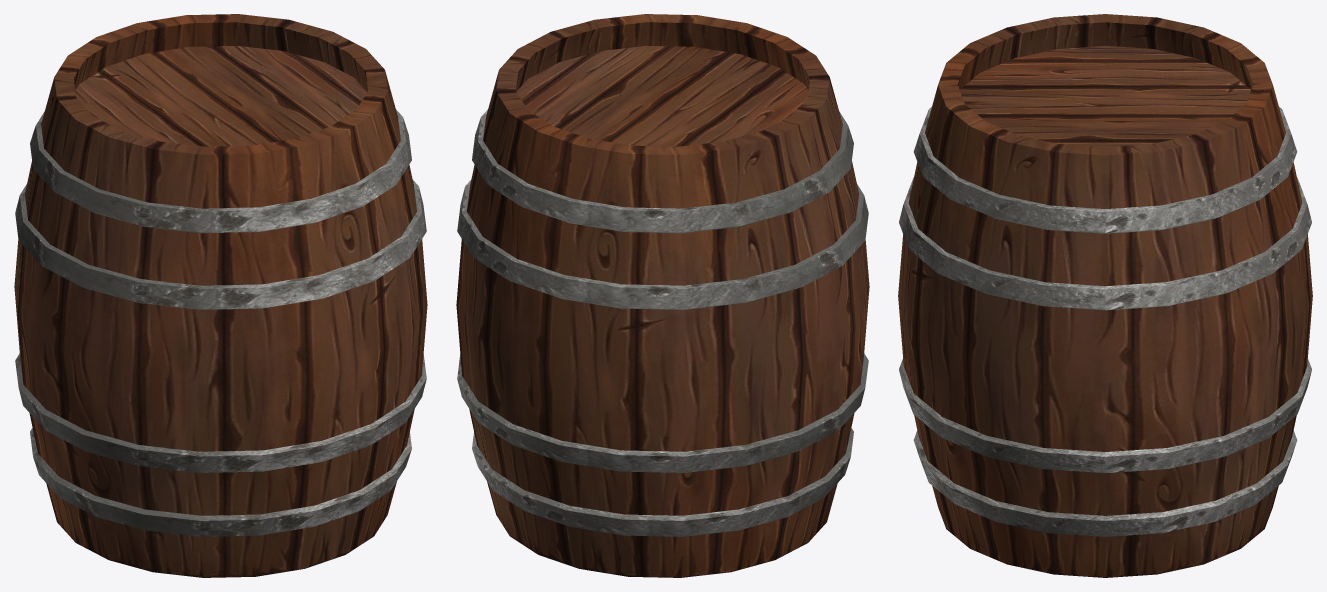
Rendered from barrel.FBX.
3 renders of one model, left to right at view 1: azimuth 30°, elevation 25°; view 2: azimuth 150°, elevation 25°; view 3: azimuth 270°, elevation 25°, orthographic.
Visible parts, largest first — view 1: Cylinder002; view 2: Cylinder002; view 3: Cylinder002.
Part boxes in pixels (box(x1,y1,x2,y2)): Cylinder002: box(14, 14, 427, 577); Cylinder002: box(456, 14, 869, 577); Cylinder002: box(898, 14, 1312, 577).
Bounding box in the file's own units: 49.55 × 55.68 × 49.55.
Materials: 1 (1 with a texture image).
